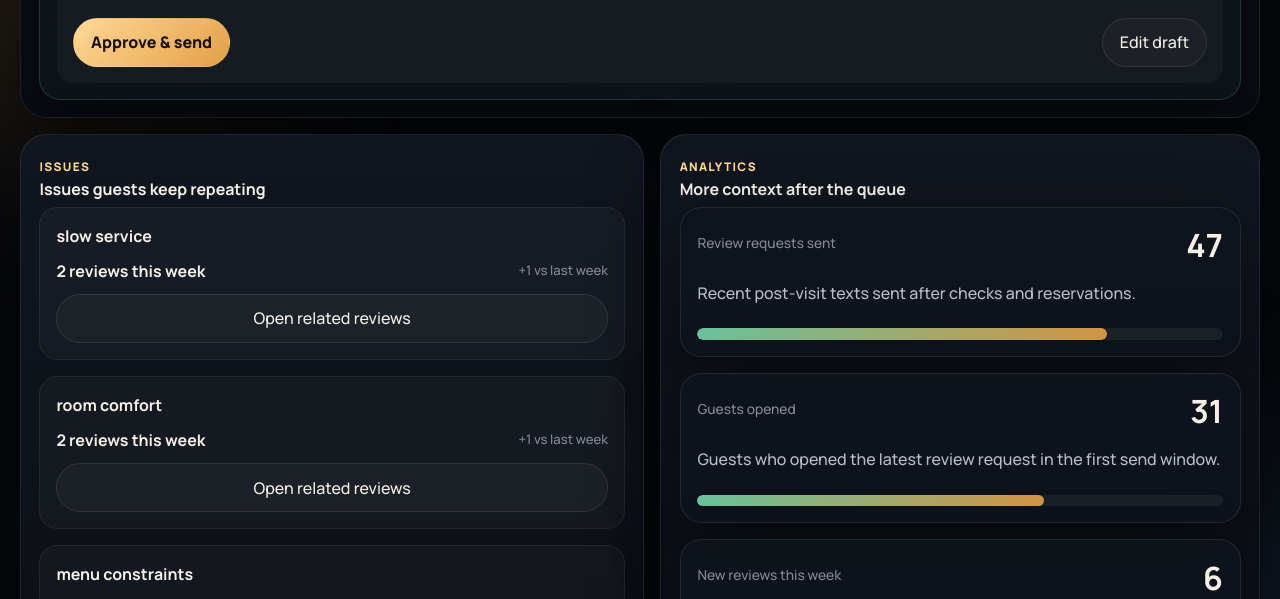
Test case: App responsive workflow › shows the focused issue banner when an issue CTA is selected
(page scrolled)
Click the 1st button "Open related reviews" at x=332, y=318, box 56,294 -> 608,343
(page scrolled)
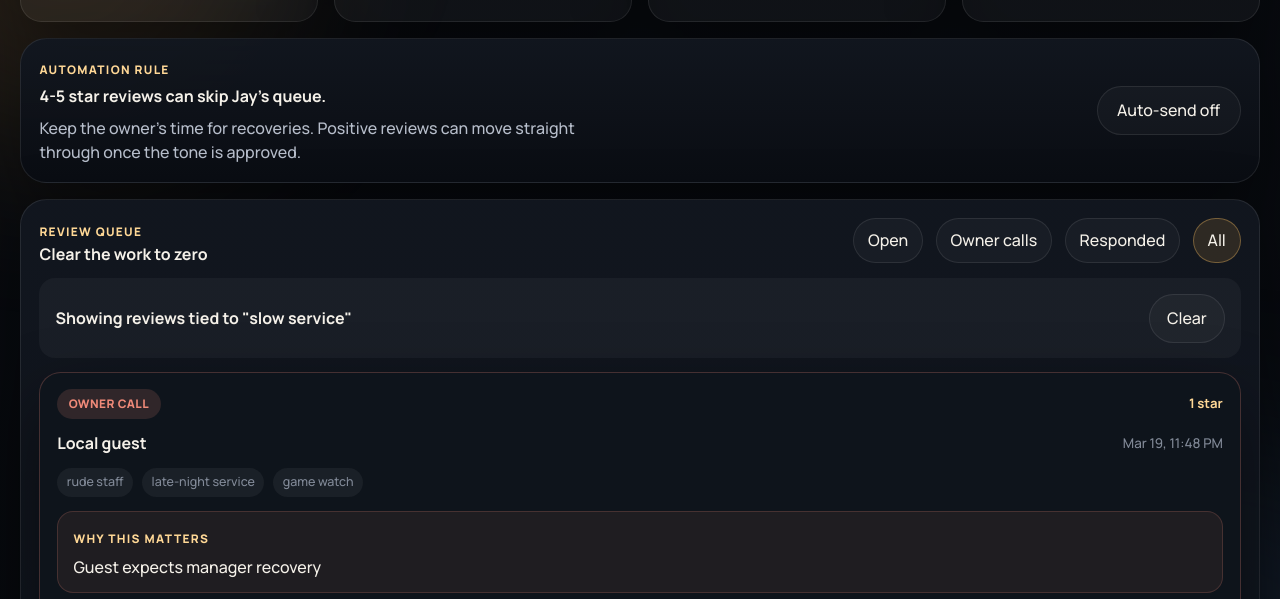
Expected: the text "Showing reviews tied to \"slow service\"" is shown, 55,306 -> 352,330
